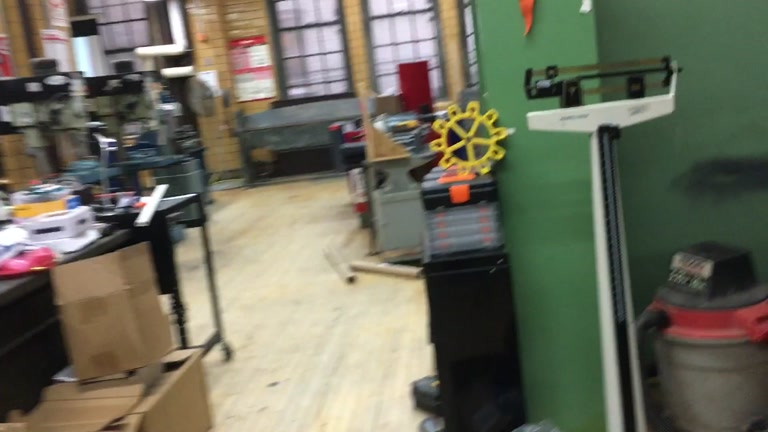gear: (431, 100, 506, 180)
